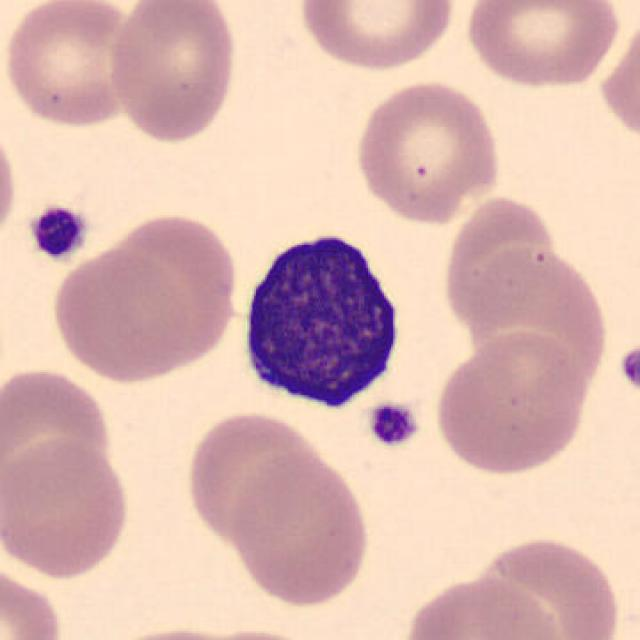Lymphocyte: (231, 218, 414, 418)
Platelets: (25, 202, 92, 262), (365, 400, 423, 450), (615, 342, 640, 397)
RBC: (87, 206, 245, 378), (457, 242, 613, 404), (430, 328, 594, 478), (228, 448, 375, 610), (350, 76, 505, 226), (48, 245, 196, 386), (182, 406, 326, 548), (105, 0, 242, 145), (0, 434, 135, 580), (0, 0, 144, 130), (466, 530, 626, 640), (439, 192, 558, 333), (0, 361, 117, 498), (460, 0, 626, 92), (295, 0, 461, 74), (398, 573, 567, 640), (597, 9, 640, 148), (0, 560, 66, 640), (92, 622, 265, 640), (0, 112, 21, 252), (188, 624, 336, 640)
